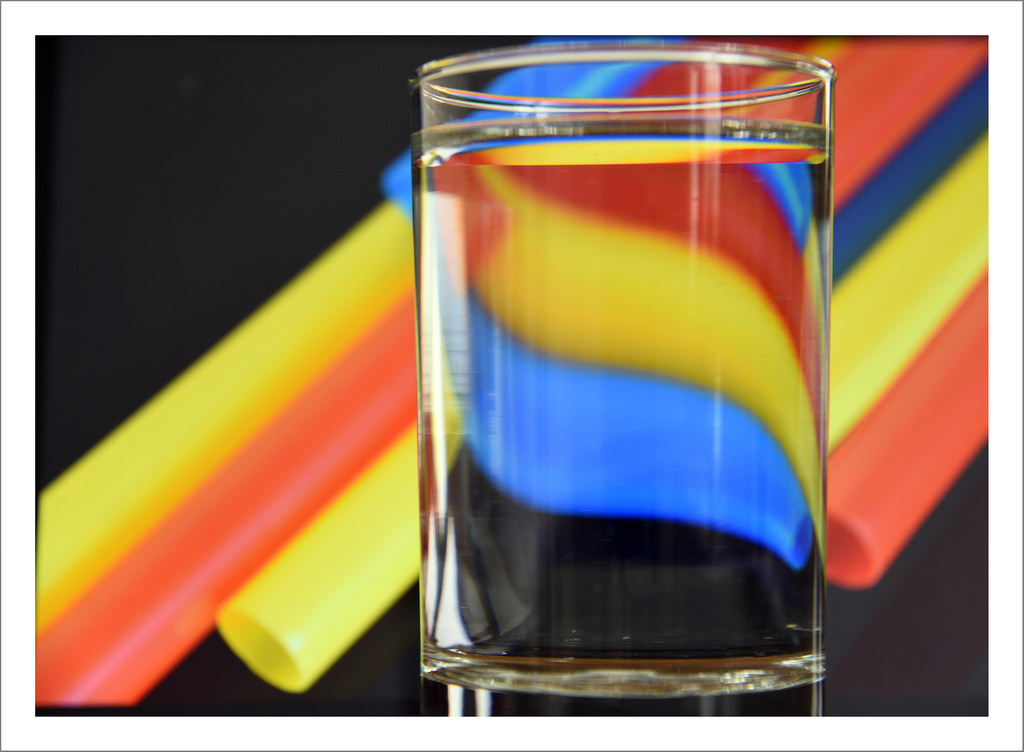glass of water: (400, 59, 848, 698)
